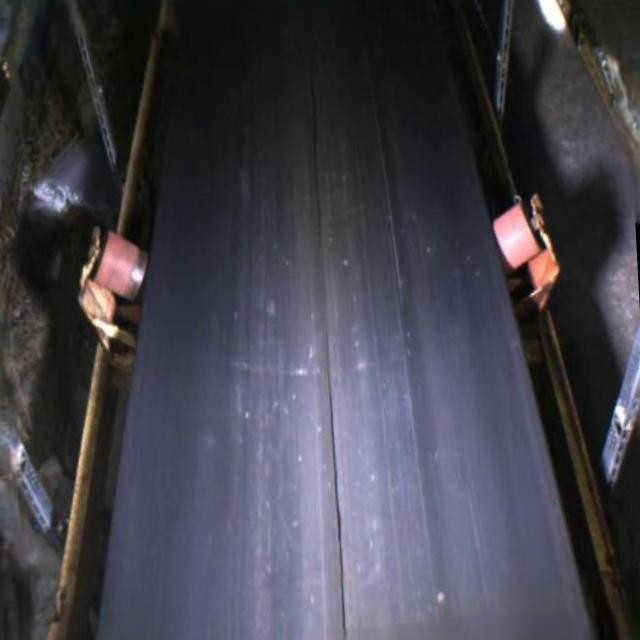Tear: (300, 35, 358, 640)
